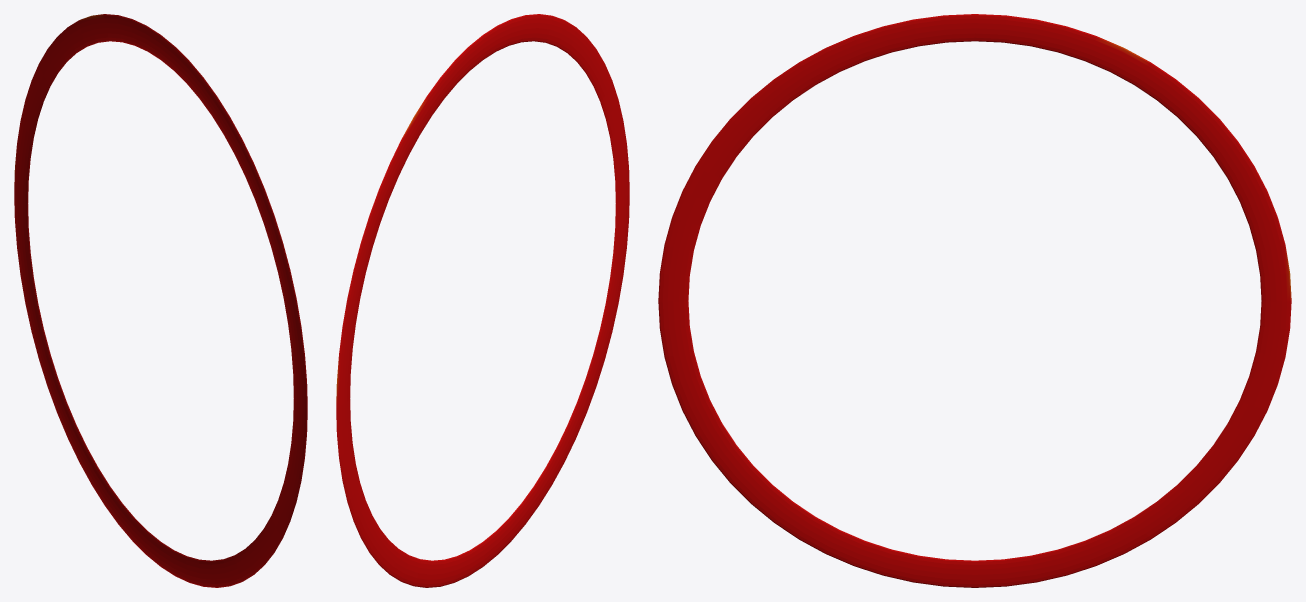
The model's file is AxisCircleX.obj.
3 renders of one model, left to right at view 1: azimuth 30°, elevation 25°; view 2: azimuth 150°, elevation 25°; view 3: azimuth 270°, elevation 25°, orthographic. The views are drawn at different scales.
Parts seen in each view (by area): view 1: Torus.004; view 2: Torus.004; view 3: Torus.004.
Boxes of the visible parts, <box> form: Torus.004: <box>14,14,307,587</box>; Torus.004: <box>336,14,629,587</box>; Torus.004: <box>658,14,1291,587</box>.
Size of the model in its own units: 0.01 by 2.1 by 2.1.
